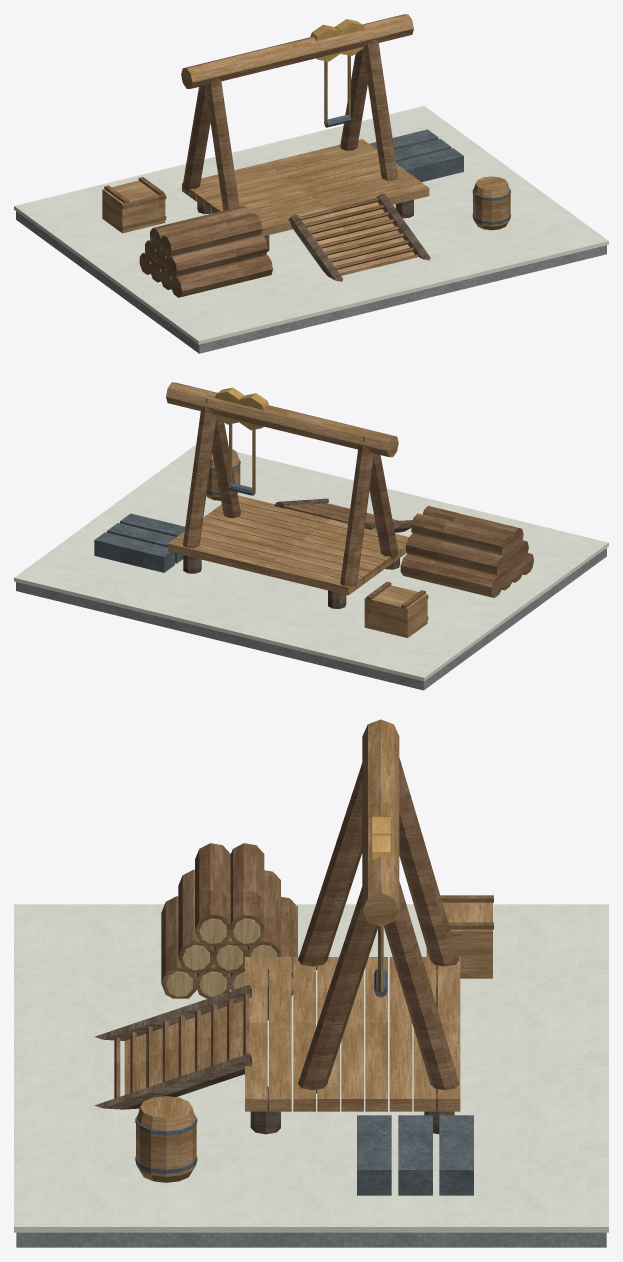
File: BLD_SALVAGE.glb
3 renders of one model, top to bottom at view 1: azimuth 30°, elevation 25°; view 2: azimuth 150°, elevation 25°; view 3: azimuth 270°, elevation 25°, orthographic. The views are drawn at different scales.
Parts seen in each view (by area): view 1: BLD_SALVAGE; view 2: BLD_SALVAGE; view 3: BLD_SALVAGE.
Part boxes in pixels (x1,y1,x2,y2): BLD_SALVAGE: (14, 14, 608, 353); BLD_SALVAGE: (14, 382, 608, 690); BLD_SALVAGE: (14, 719, 608, 1247).
Bounding box in the file's own units: 7.04 × 3.05 × 5.49.
Materials: 9 (9 with a texture image).
